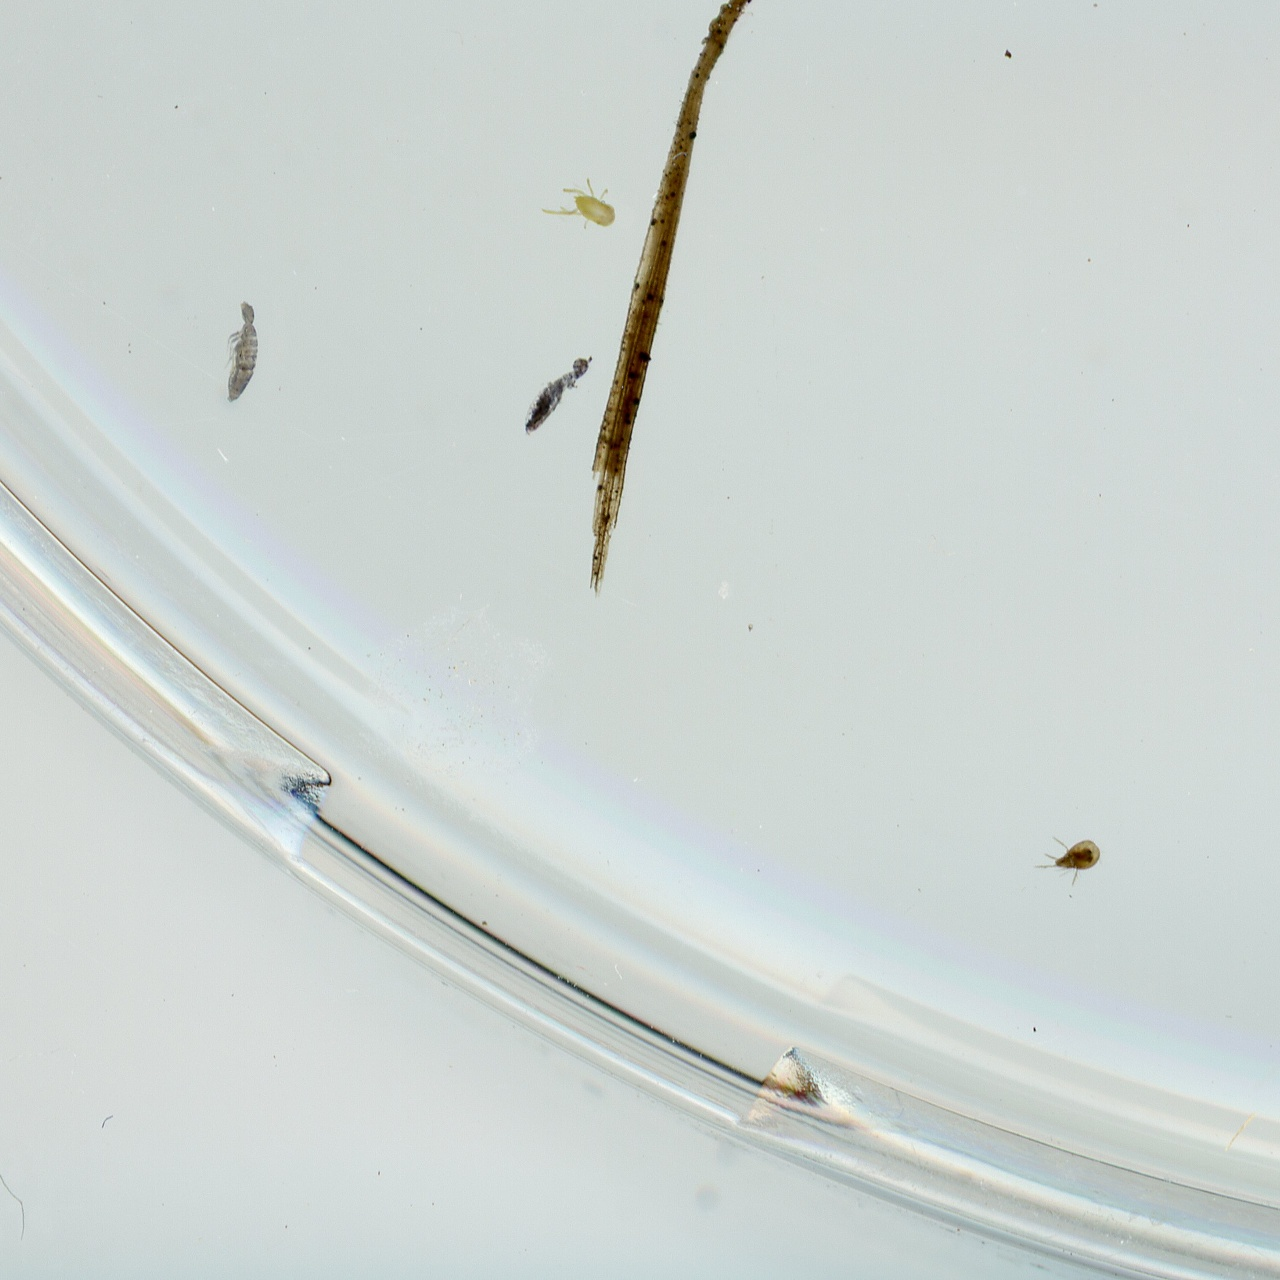arthropod: (499, 327, 607, 463), (218, 293, 266, 421), (539, 177, 618, 231), (1033, 836, 1102, 887)
